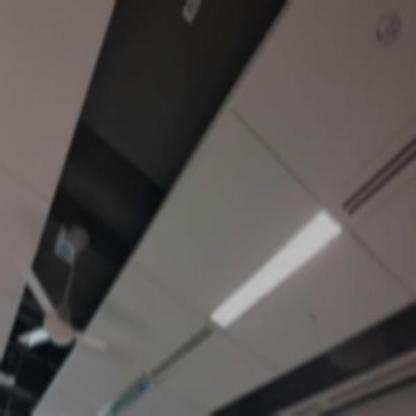light_on: (202, 191, 346, 341)
